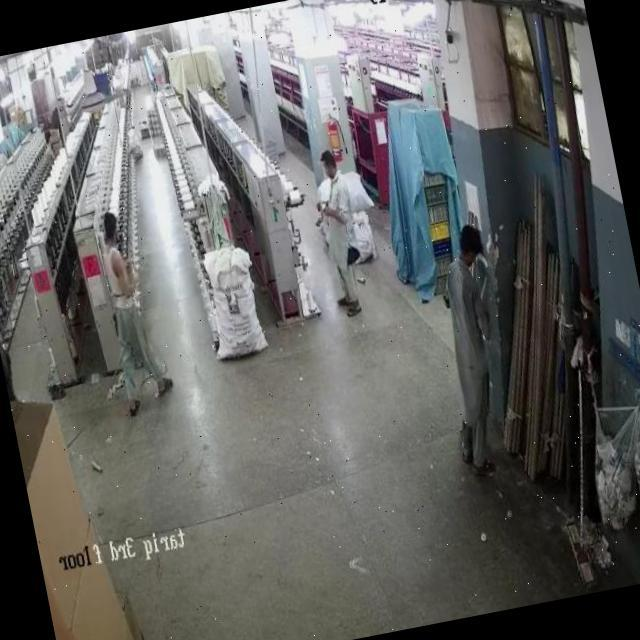person: (422, 235, 514, 477), (90, 206, 156, 402), (311, 152, 363, 298)
